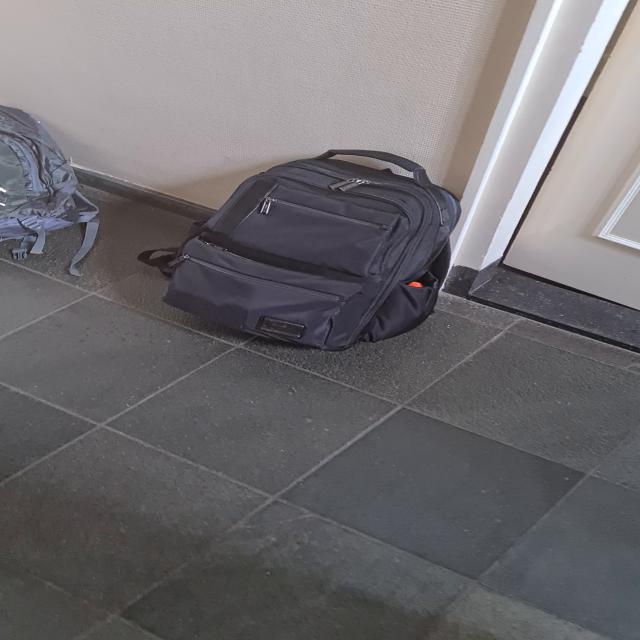backpack: (148, 141, 479, 358), (0, 98, 95, 268)
